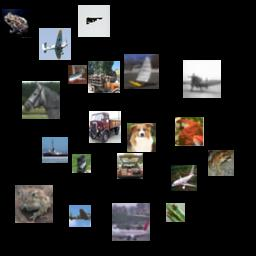airplane: (112, 203, 150, 241), (183, 60, 221, 98), (39, 28, 71, 60), (78, 5, 110, 37), (171, 165, 197, 191), (69, 205, 91, 227), (68, 65, 87, 84)
automobile: (117, 153, 143, 179)
bird: (175, 117, 204, 146), (72, 154, 91, 173)
dog: (127, 123, 156, 152)
frog: (15, 185, 53, 223), (2, 9, 31, 38), (208, 150, 234, 176), (166, 203, 185, 222)
ship: (124, 54, 159, 89), (42, 137, 68, 163)
truck: (88, 61, 120, 93), (89, 111, 121, 143)
